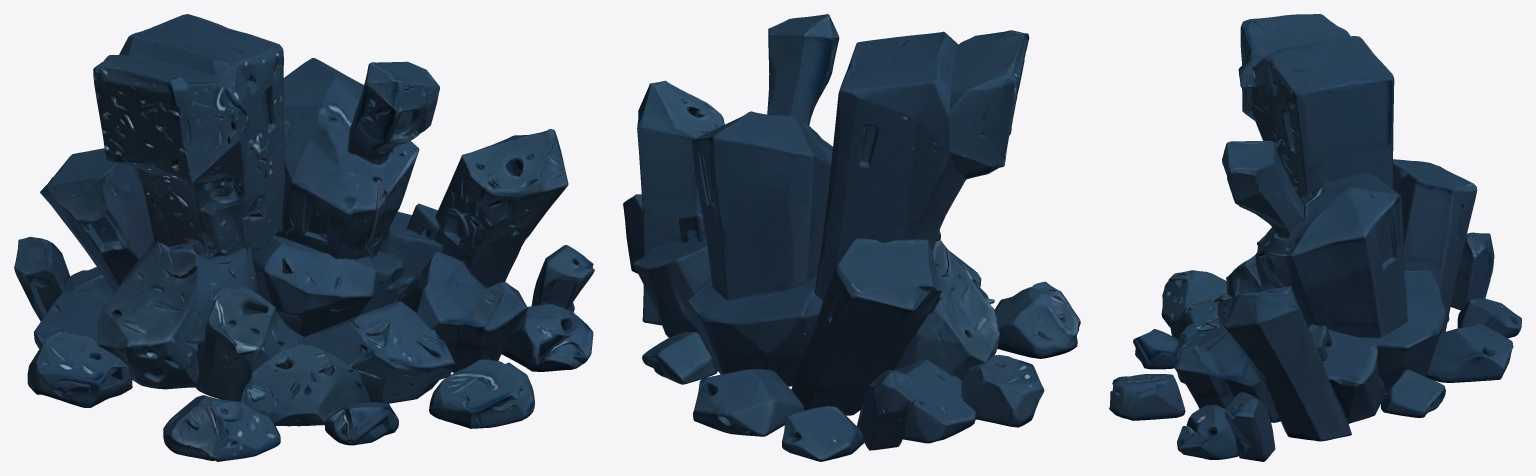
The model's file is arrecife.glb.
3 renders of one model, left to right at view 1: azimuth 30°, elevation 25°; view 2: azimuth 150°, elevation 25°; view 3: azimuth 270°, elevation 25°, orthographic. The views are drawn at different scales.
Size of the model in its own units: 0.9791 by 0.6582 by 0.8599.
Materials: 1 (1 with a texture image).
